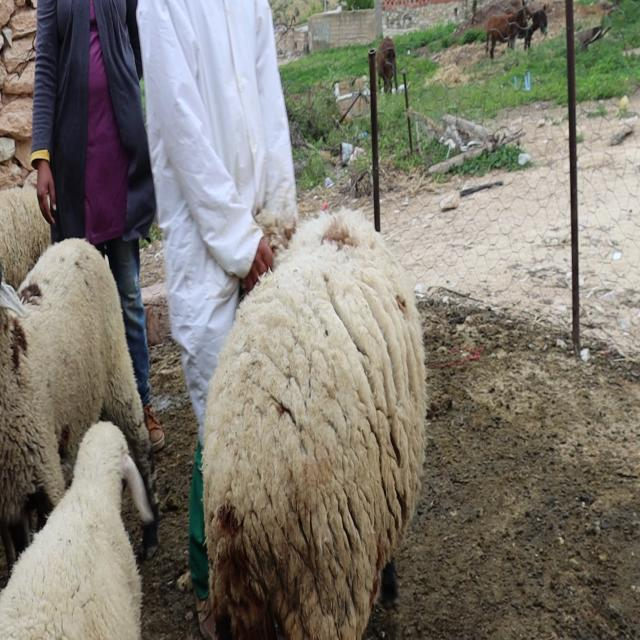Score_5: (202, 209, 427, 639)
